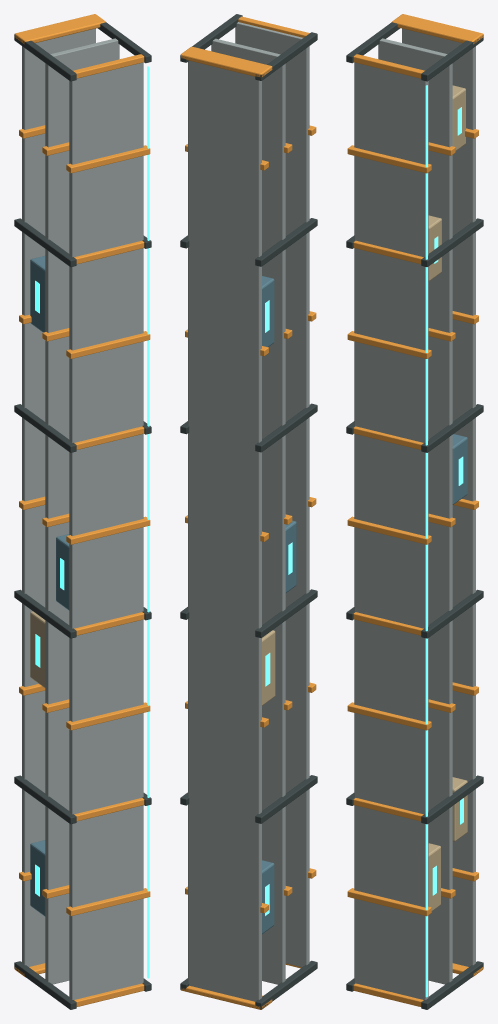
File: storage_rack_11m.glb
3 views of the same model, side by side, from view 1: azimuth 30°, elevation 25°; view 2: azimuth 150°, elevation 25°; view 3: azimuth 330°, elevation 25° (orthographic).
Parts seen in each view (by area): view 1: rack_shelf_2, rack_shelf_1, rack_shelf_0, rack_identity_strip, rack_end_guard_+5, rack_cargo_4, rack_cargo_2, rack_cargo_0, rack_cargo_7, rack_post_1_right, rack_post_2_right, rack_post_4_right (+15 smaller); view 2: rack_shelf_0, rack_shelf_2, rack_shelf_1, rack_end_guard_+5, rack_cargo_2, rack_cargo_4, rack_post_3_right, rack_post_2_right, rack_post_1_right, rack_post_4_right, rack_post_0_right, rack_cargo_0 (+5 smaller); view 3: rack_shelf_2, rack_shelf_1, rack_shelf_0, rack_identity_strip, rack_end_guard_+5, rack_cargo_3, rack_post_1_left, rack_post_2_left, rack_post_4_left, rack_post_3_left, rack_beam_2_2, rack_beam_2_4 (+16 smaller).
Boxes of the visible parts, x1,y1,x2,y2 form: rack_shelf_2: (69, 62, 143, 999); rack_shelf_1: (45, 38, 119, 984); rack_shelf_0: (22, 28, 95, 966); rack_identity_strip: (147, 66, 149, 978); rack_end_guard_+5: (14, 14, 105, 44); rack_cargo_4: (30, 256, 45, 332); rack_cargo_2: (30, 611, 45, 687); rack_cargo_0: (30, 840, 45, 916); rack_cargo_7: (56, 534, 69, 610); rack_post_1_right: (14, 775, 76, 824); rack_post_2_right: (14, 589, 76, 638); rack_post_4_right: (14, 218, 76, 266); rack_shelf_0: (188, 60, 261, 1001); rack_shelf_2: (235, 22, 309, 967); rack_shelf_1: (211, 38, 285, 984); rack_end_guard_+5: (180, 46, 272, 77); rack_cargo_2: (262, 630, 275, 705); rack_cargo_4: (262, 276, 274, 346); rack_post_3_right: (255, 403, 317, 452); rack_post_2_right: (255, 589, 317, 637); rack_post_1_right: (255, 775, 317, 823); rack_post_4_right: (255, 218, 317, 266); rack_post_0_right: (255, 960, 317, 1009); rack_cargo_0: (262, 860, 274, 933); rack_shelf_2: (354, 62, 428, 999); rack_shelf_1: (378, 38, 452, 984); rack_shelf_0: (402, 28, 475, 966); rack_identity_strip: (425, 85, 427, 997); rack_end_guard_+5: (392, 14, 483, 44); rack_cargo_3: (452, 434, 467, 504); rack_post_1_left: (421, 775, 483, 824); rack_post_2_left: (421, 589, 483, 638); rack_post_4_left: (421, 218, 483, 266); rack_post_3_left: (421, 404, 483, 452); rack_beam_2_2: (347, 516, 431, 544); rack_beam_2_4: (347, 145, 431, 173).
Bounding box in the file's own units: 1 × 10.99 × 1.2.
